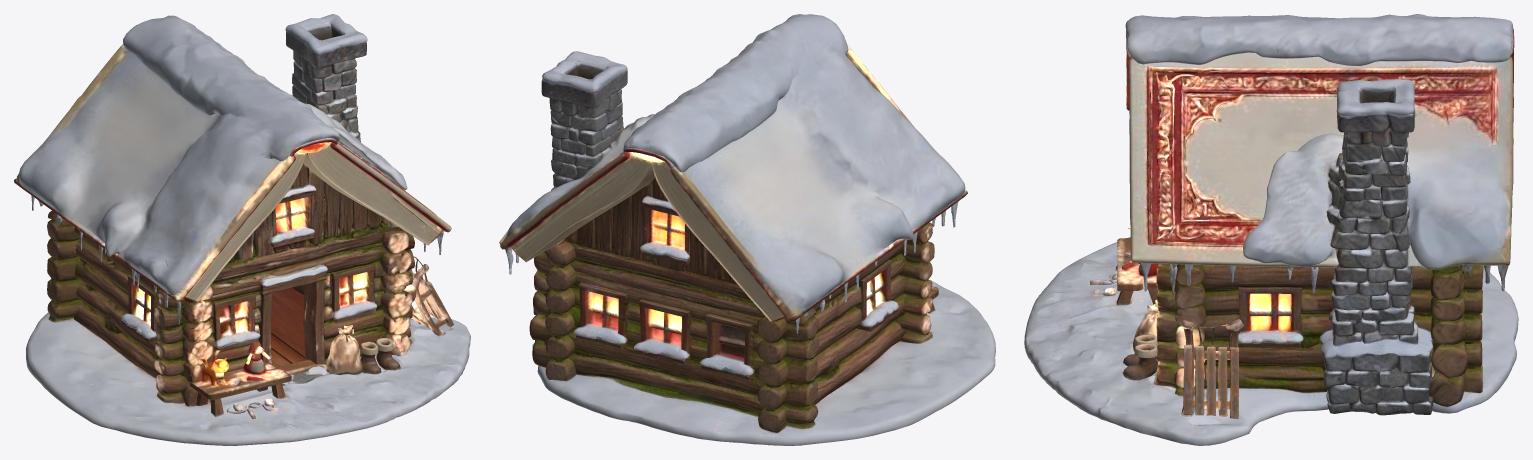
File: santa-claus.glb
3 renders of one model, left to right at view 1: azimuth 30°, elevation 25°; view 2: azimuth 150°, elevation 25°; view 3: azimuth 270°, elevation 25°, orthographic. The views are drawn at different scales.
Parts seen in each view (by area): view 1: model; view 2: model; view 3: model.
Part boxes in pixels (<box>): model: <box>14,14,470,445</box>; model: <box>499,14,995,445</box>; model: <box>1024,14,1518,445</box>.
Bounding box in the file's own units: 1.9 × 1.31 × 1.81.
1 material, 1 textured.
